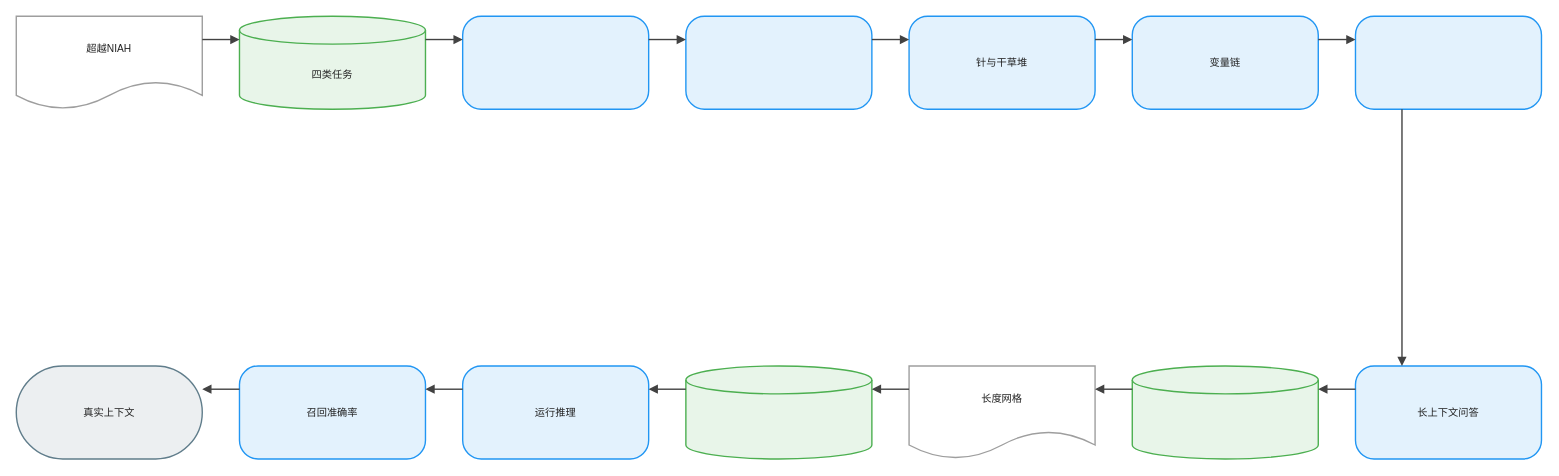
The diagram is 1559 pixels wide and 476 high, and some of its shapes have lost their labels. The centre of each missing label's shape, as x and y in pixels:
"13项任务" belongs at point 1225,412.
"NIAH变体" belongs at point 778,62.
"每长度500例" belongs at point 778,412.
"设置复杂度" belongs at point 555,62.
"词频聚合" belongs at point 1448,62.
